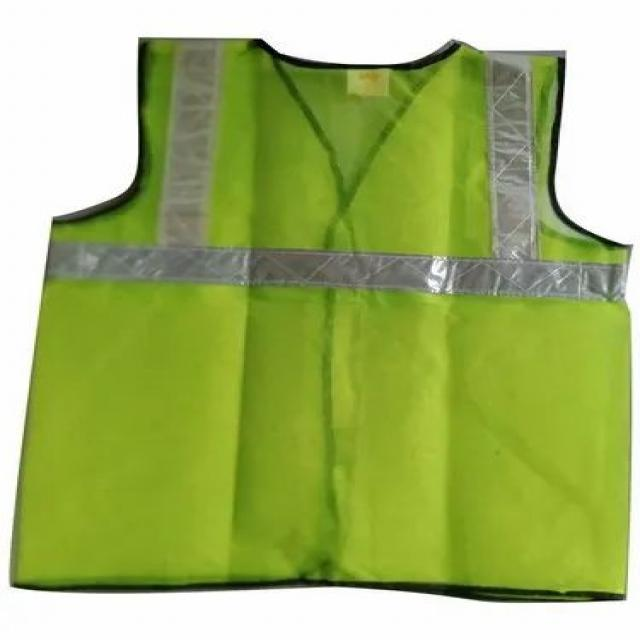Reflective-Jacket: (5, 16, 640, 624)
